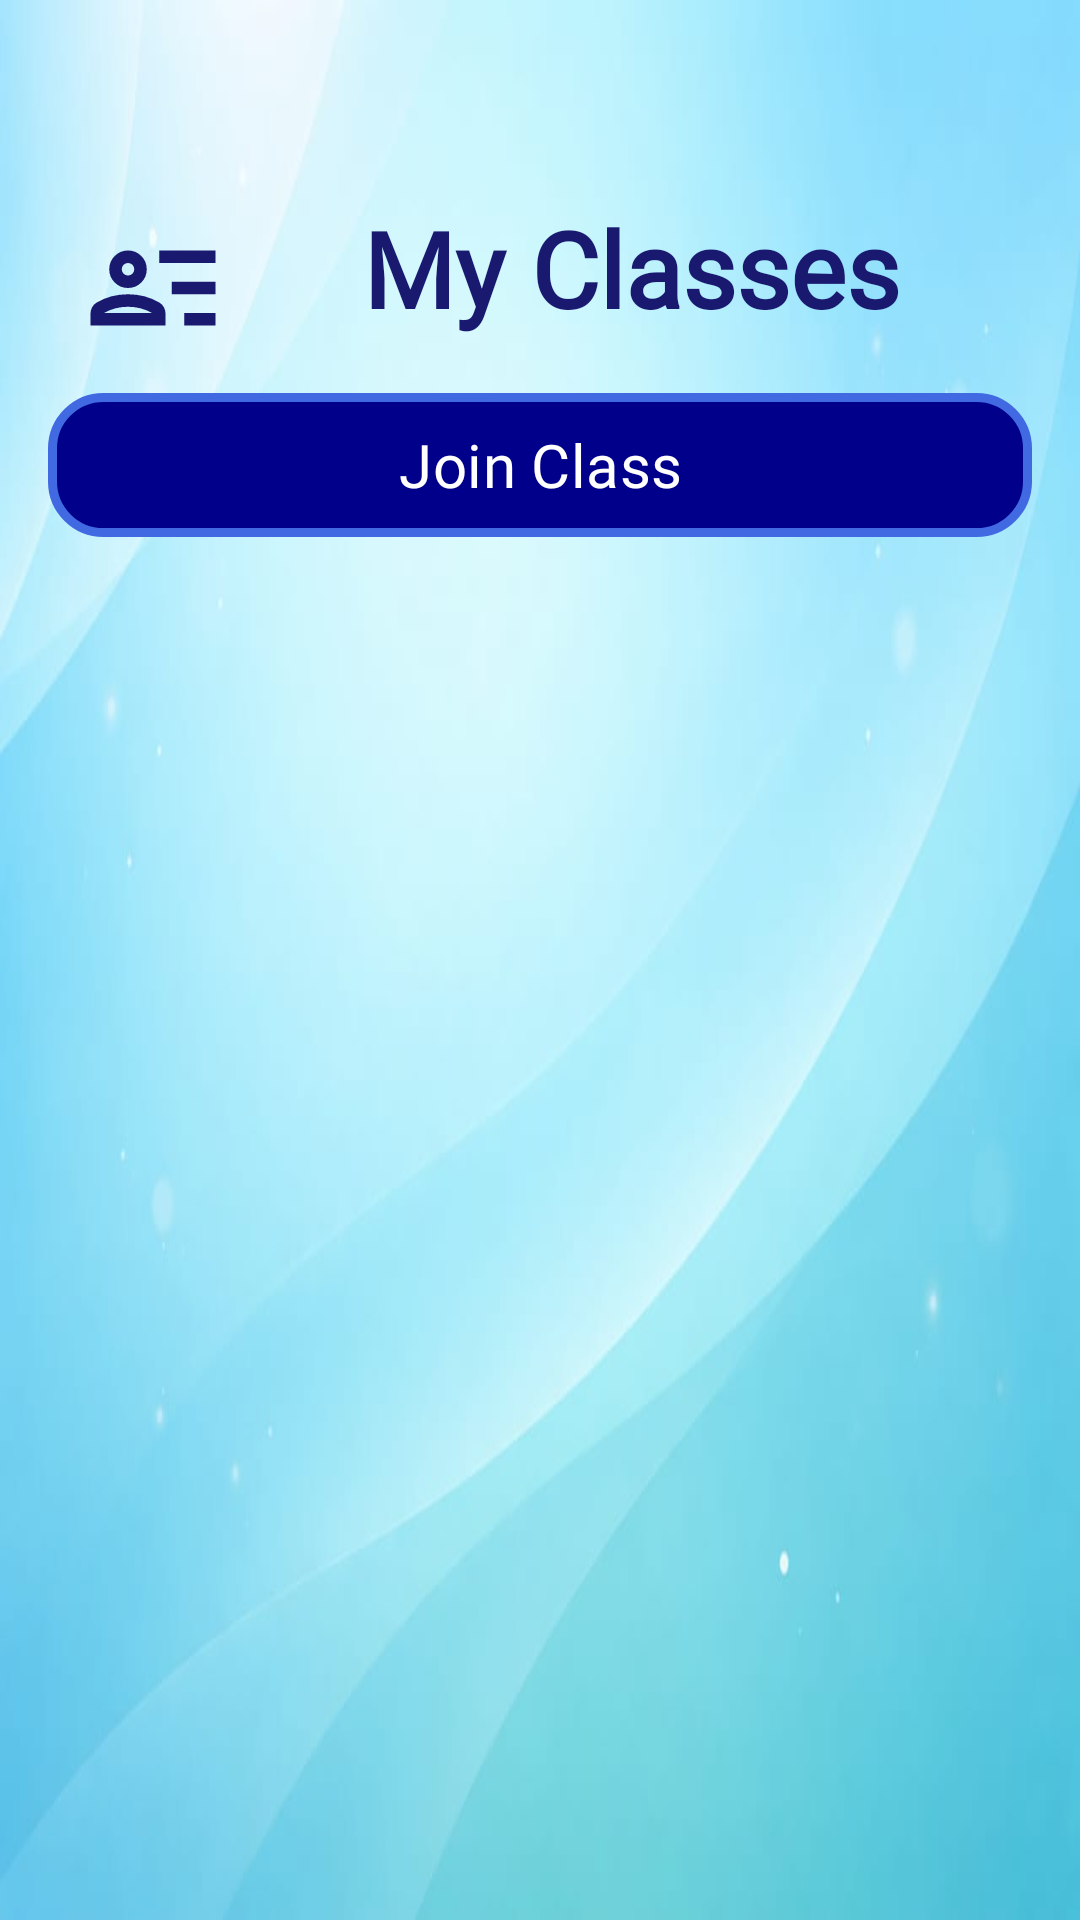

Screen size 1080px x 1920px. Icon name, then its center in pixels as [x,y]:
profile: [153,288]
